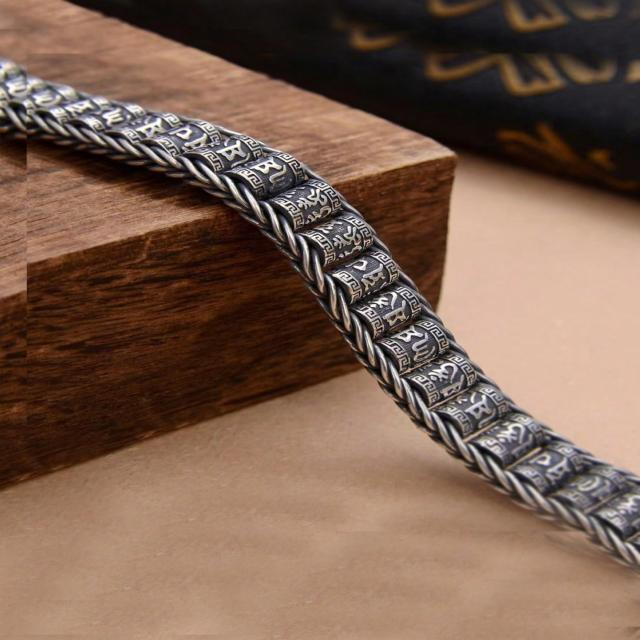bracelet: (0, 24, 640, 556)
